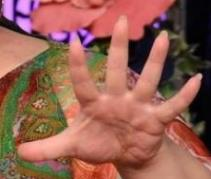down: (15, 19, 203, 163)
